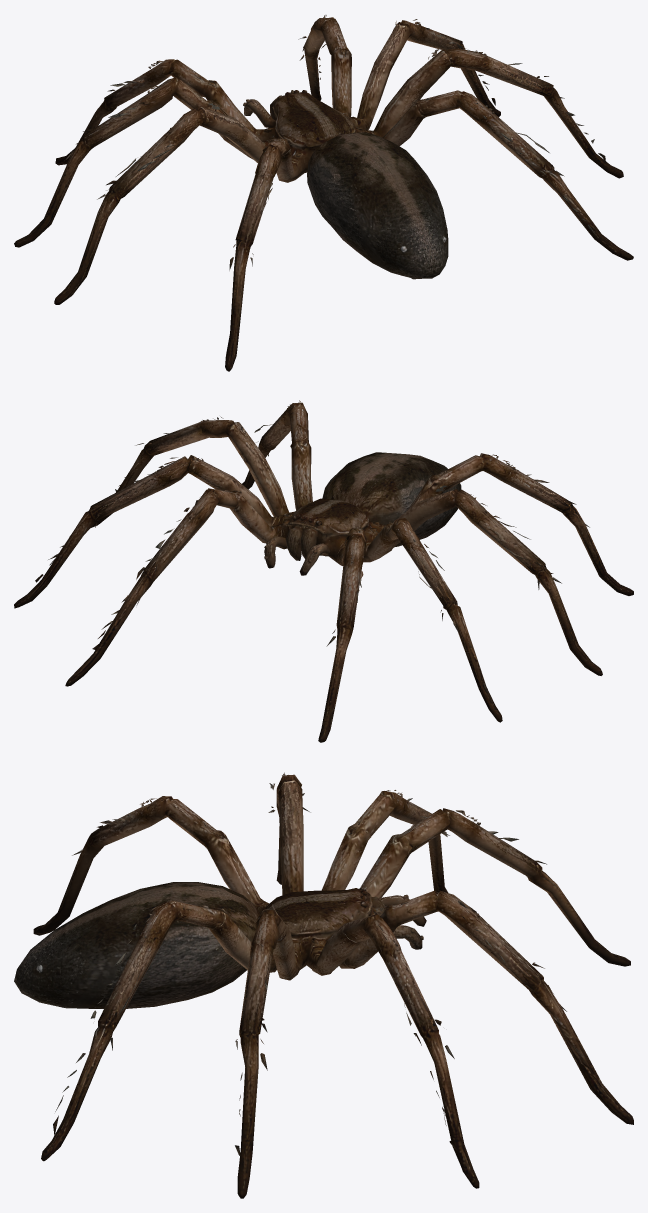
The model's file is ceiling-spider-a-v01.glb.
3 renders of one model, top to bottom at view 1: azimuth 30°, elevation 25°; view 2: azimuth 150°, elevation 25°; view 3: azimuth 270°, elevation 25°, orthographic. The views are drawn at different scales.
Visible parts, largest first — view 1: tripo_node_44331dd5-c3ca-45bb-8cf7-29120d3987fe; view 2: tripo_node_44331dd5-c3ca-45bb-8cf7-29120d3987fe; view 3: tripo_node_44331dd5-c3ca-45bb-8cf7-29120d3987fe.
Part boxes in pixels (x1=…): tripo_node_44331dd5-c3ca-45bb-8cf7-29120d3987fe: x1=14, y1=15, x2=633, y2=371; tripo_node_44331dd5-c3ca-45bb-8cf7-29120d3987fe: x1=14, y1=400, x2=633, y2=742; tripo_node_44331dd5-c3ca-45bb-8cf7-29120d3987fe: x1=14, y1=772, x2=633, y2=1198.
Bounding box in the file's own units: 0.5 × 0.1517 × 0.4041.
1 material, 1 textured.
